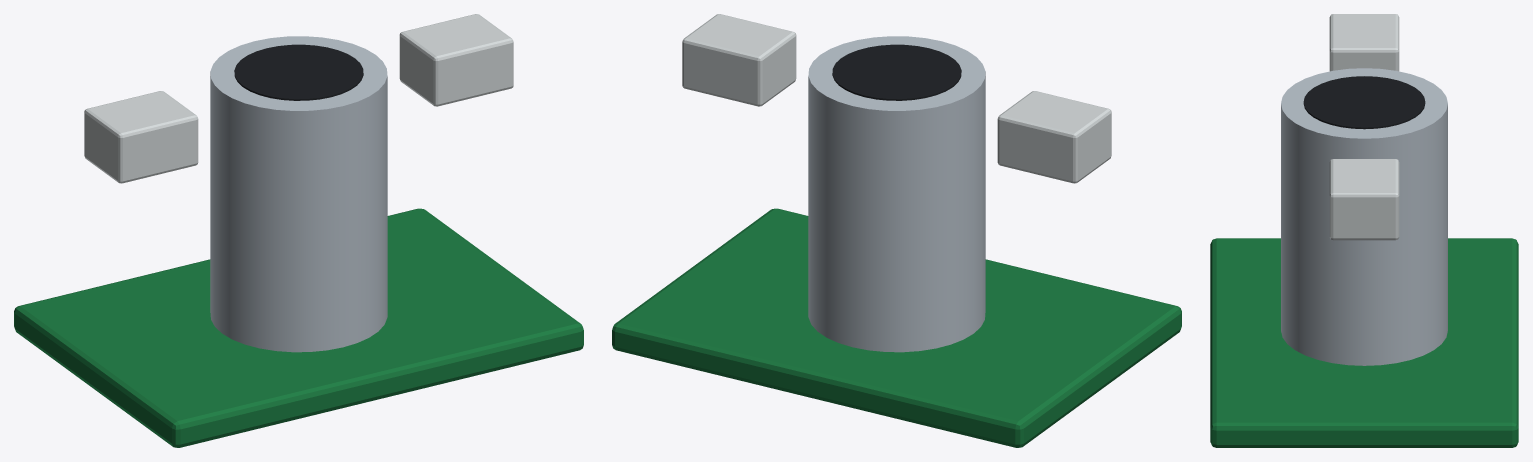
The model's file is thermal_camera_mlx90640.glb.
3 views of the same model, side by side, from view 1: azimuth 30°, elevation 25°; view 2: azimuth 150°, elevation 25°; view 3: azimuth 270°, elevation 25° (orthographic). The views are drawn at different scales.
Visible parts, largest first — view 1: part_thermal_camera_mlx90640__pcb, part_thermal_camera_mlx90640__steel, part_thermal_camera_mlx90640__polymer, part_thermal_camera_mlx90640__black_polymer; view 2: part_thermal_camera_mlx90640__pcb, part_thermal_camera_mlx90640__steel, part_thermal_camera_mlx90640__polymer, part_thermal_camera_mlx90640__black_polymer; view 3: part_thermal_camera_mlx90640__pcb, part_thermal_camera_mlx90640__steel, part_thermal_camera_mlx90640__polymer, part_thermal_camera_mlx90640__black_polymer.
Boxes of the visible parts, left/top/right/bottom form: part_thermal_camera_mlx90640__pcb: left=14, top=208, right=583, bottom=447; part_thermal_camera_mlx90640__steel: left=210, top=36, right=387, bottom=352; part_thermal_camera_mlx90640__polymer: left=84, top=14, right=513, bottom=183; part_thermal_camera_mlx90640__black_polymer: left=234, top=44, right=363, bottom=100; part_thermal_camera_mlx90640__pcb: left=612, top=208, right=1181, bottom=447; part_thermal_camera_mlx90640__steel: left=808, top=36, right=985, bottom=352; part_thermal_camera_mlx90640__polymer: left=682, top=14, right=1111, bottom=183; part_thermal_camera_mlx90640__black_polymer: left=832, top=44, right=961, bottom=100; part_thermal_camera_mlx90640__pcb: left=1210, top=238, right=1518, bottom=447; part_thermal_camera_mlx90640__steel: left=1281, top=68, right=1447, bottom=365; part_thermal_camera_mlx90640__polymer: left=1329, top=14, right=1399, bottom=240; part_thermal_camera_mlx90640__black_polymer: left=1303, top=76, right=1425, bottom=129.
Size of the model in its own units: 0.0257 by 0.0161 by 0.0177.
